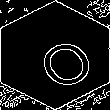O_NW: (19, 22, 91, 88)
